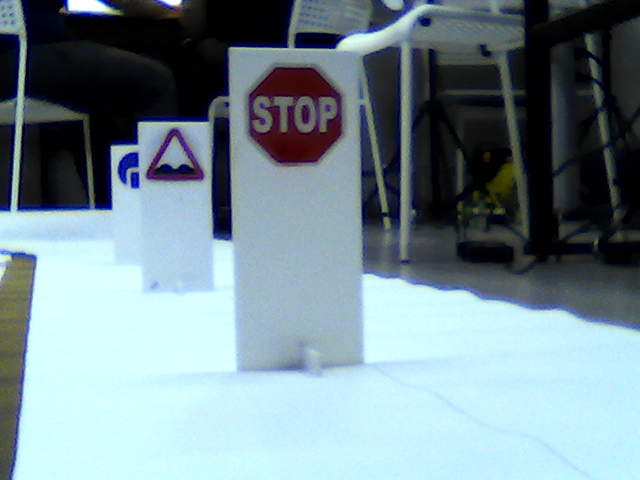Nerov: (145, 126, 207, 183)
Stop: (244, 61, 348, 168)
